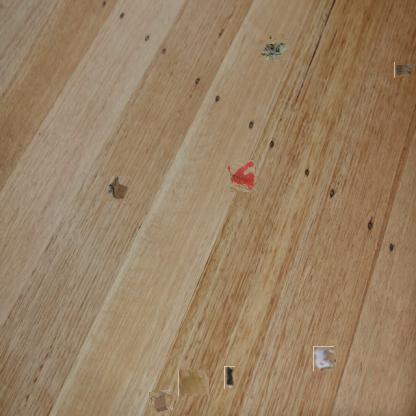dirty: (262, 36, 288, 62), (106, 176, 130, 202), (312, 347, 335, 370), (150, 390, 172, 412), (394, 62, 415, 78), (224, 366, 235, 389)
liquid: (178, 370, 209, 396), (228, 162, 256, 190)
